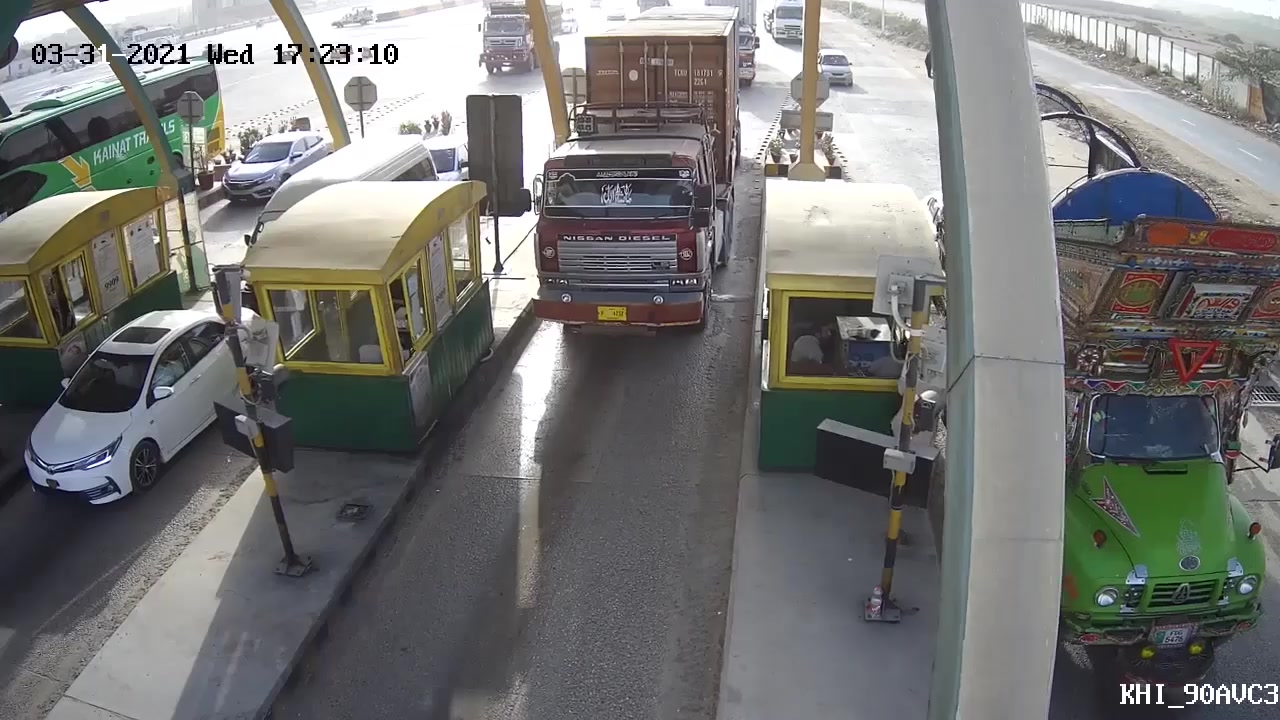F6: (521, 20, 744, 351)
